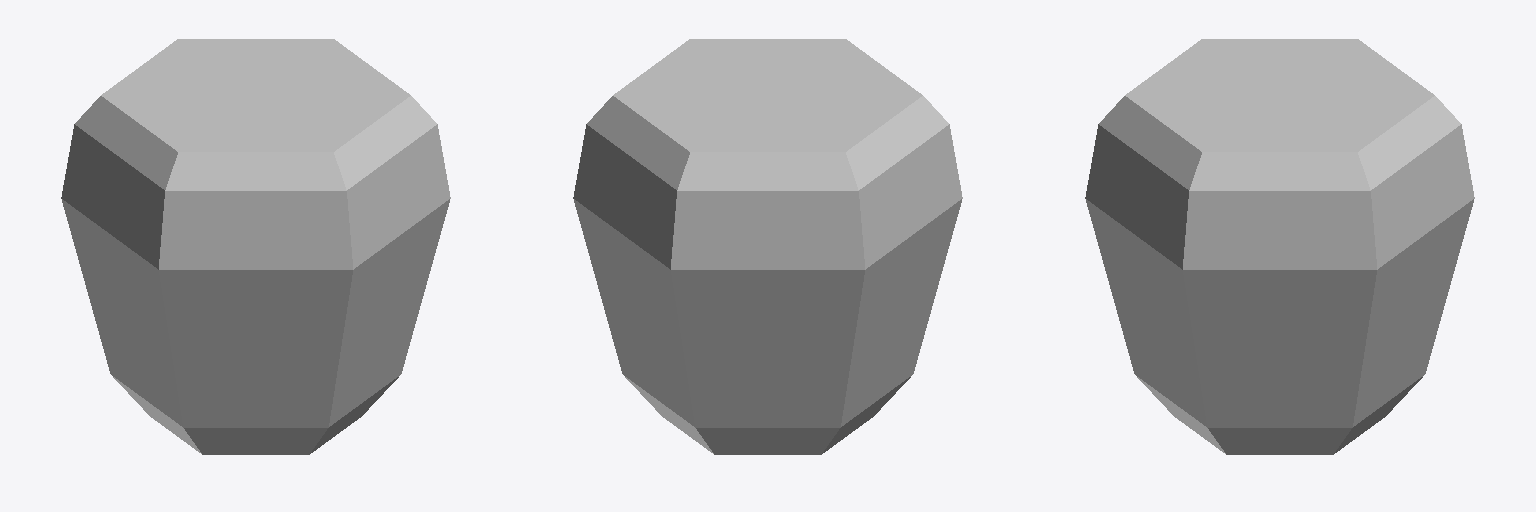
The model's file is Cork.obj.
3 renders of one model, left to right at view 1: azimuth 30°, elevation 25°; view 2: azimuth 150°, elevation 25°; view 3: azimuth 270°, elevation 25°, orthographic.
Bounding box in the file's own units: 0.8186 × 0.8596 × 0.9452.